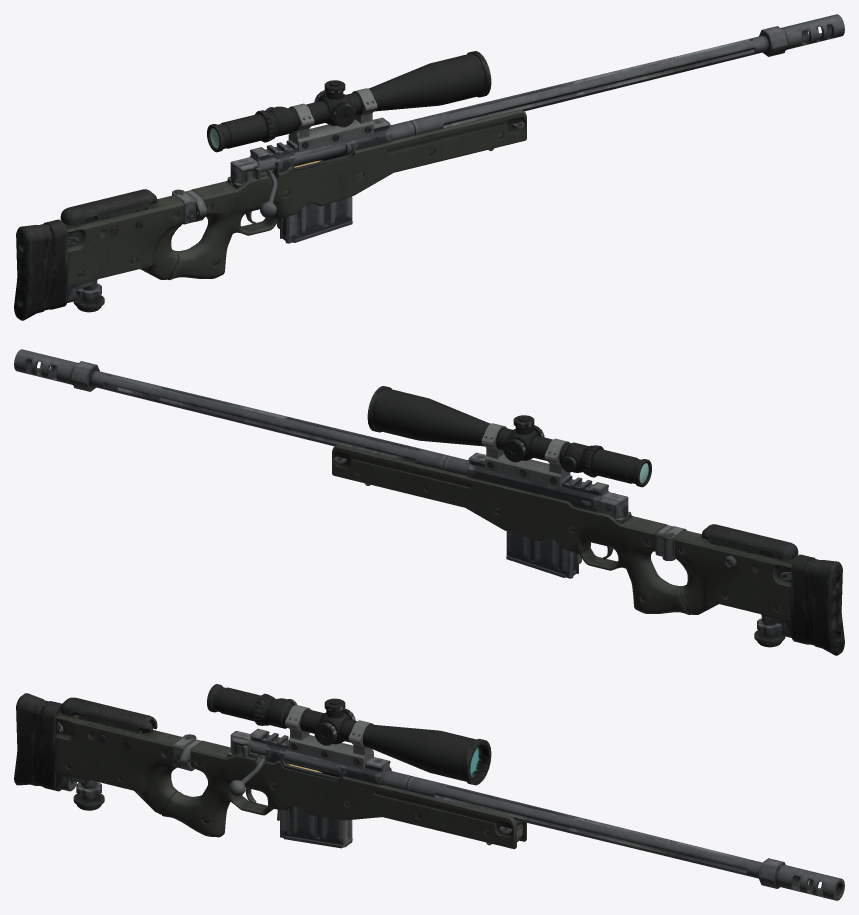
Rendered from sniper50.5142a769cf.glb.
3 renders of one model, top to bottom at view 1: azimuth 30°, elevation 25°; view 2: azimuth 150°, elevation 25°; view 3: azimuth 330°, elevation 25°, orthographic.
Visible parts, largest first — view 1: base, scope, mag, bolt, boltrear; view 2: base, scope, mag, boltrear; view 3: base, scope, mag, bolt, boltrear.
Part boxes in pixels (<box>): base: <box>14,14,844,320</box>; scope: <box>207,51,491,152</box>; mag: <box>280,196,352,243</box>; bolt: <box>259,144,351,218</box>; boltrear: <box>230,157,260,184</box>; base: <box>14,349,844,655</box>; scope: <box>367,386,651,487</box>; mag: <box>506,531,578,578</box>; boltrear: <box>599,492,628,519</box>; base: <box>14,693,844,900</box>; scope: <box>207,684,491,785</box>; mag: <box>280,806,352,848</box>; bolt: <box>228,745,341,796</box>; boltrear: <box>230,731,250,757</box>.
Bounding box in the file's own units: 1.53 × 0.2947 × 0.1024.
3 materials, 2 textured.
